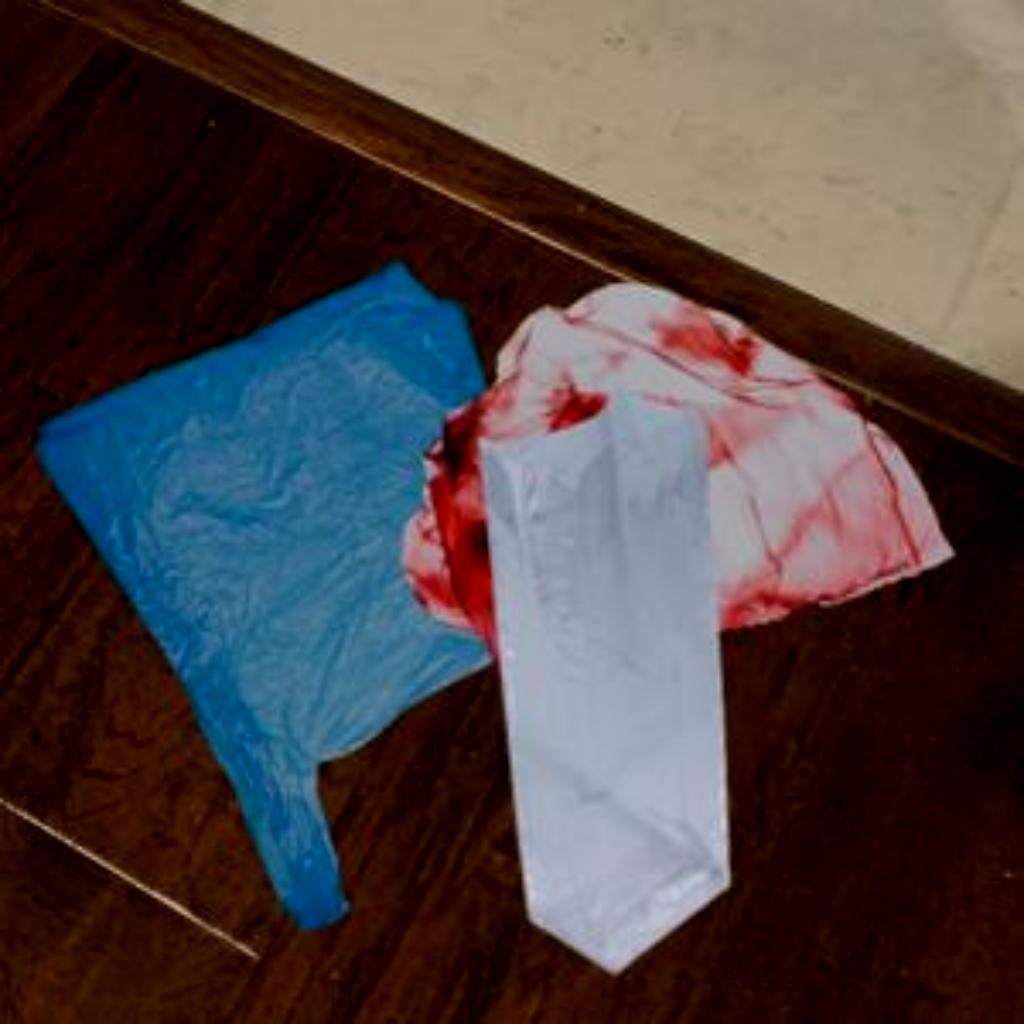garbage: (29, 270, 483, 860), (433, 247, 956, 667), (483, 377, 766, 954)
